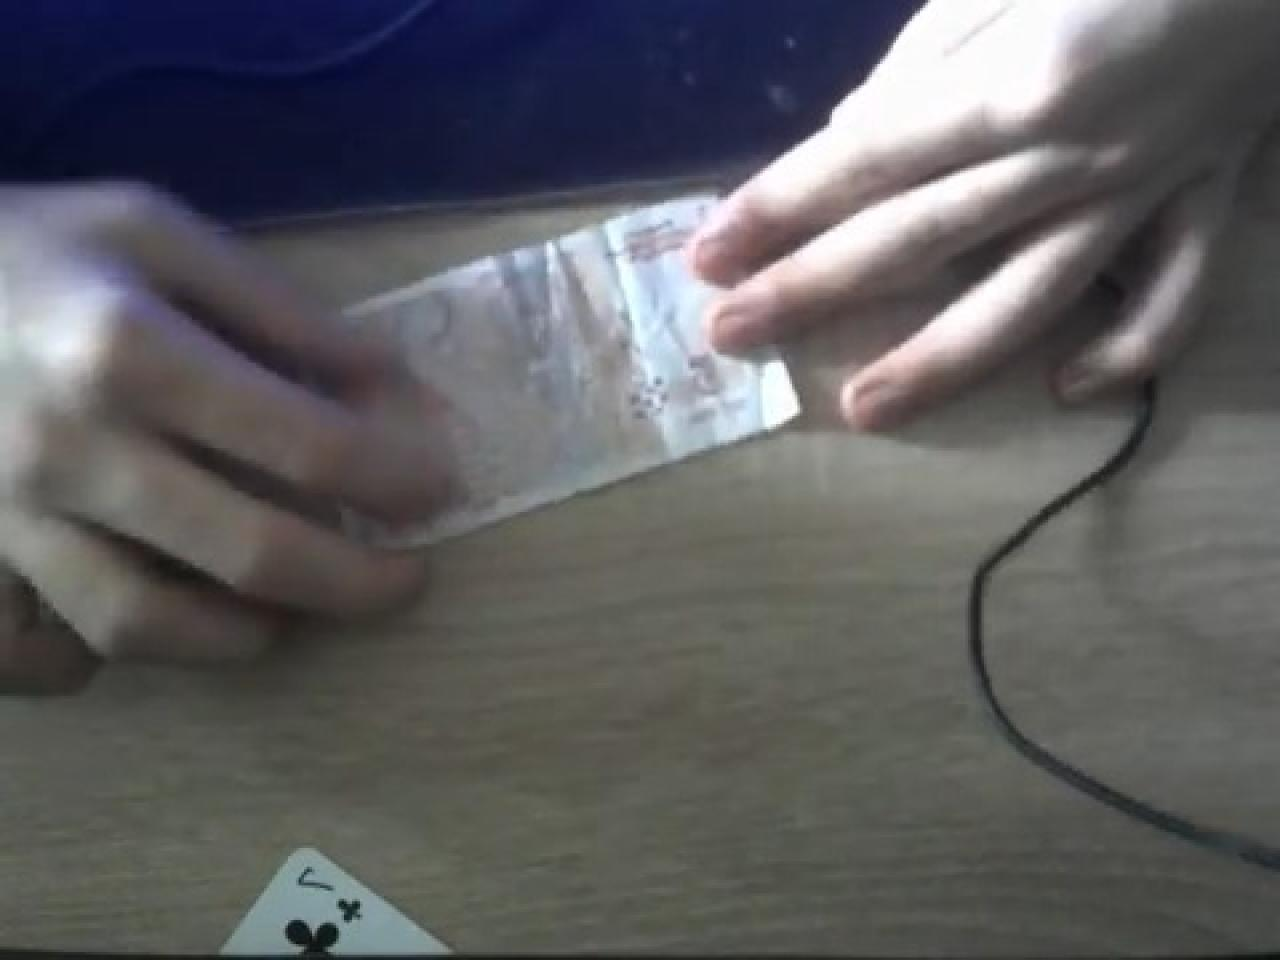5leva: (334, 195, 802, 558)
